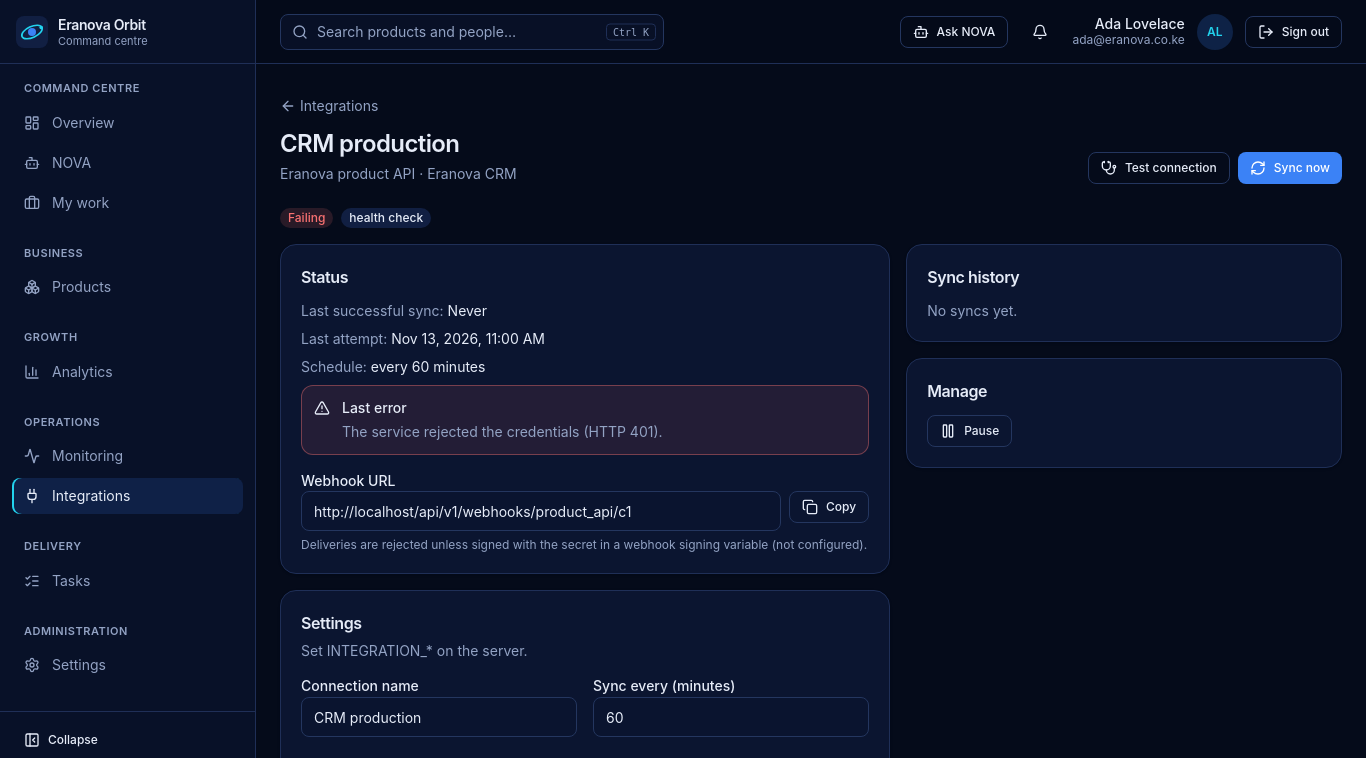
Test case: Integrations › reports a failed connection test
The width and height of the screenshot is (1366, 758).
Step 1. Click the button "Test connection" → (1159, 168), box [1088,152,1230,184]
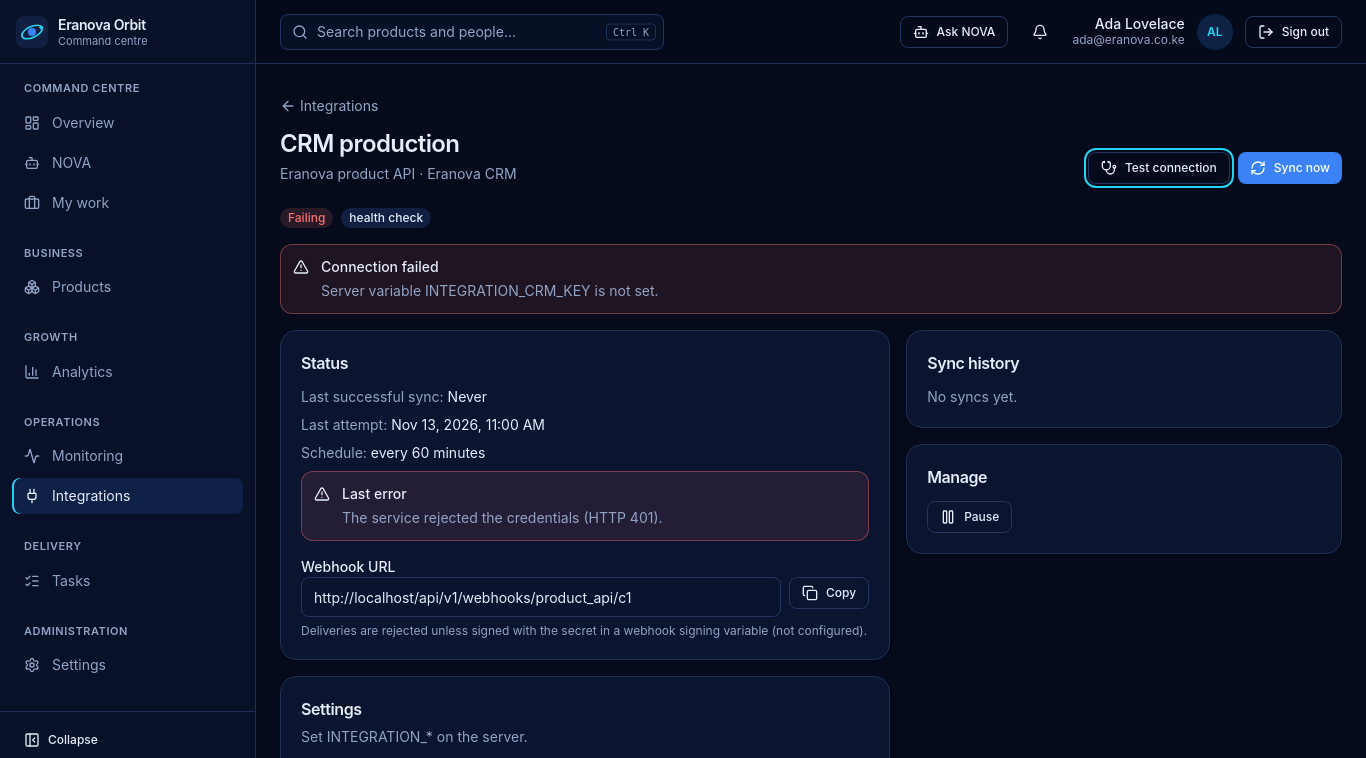
Now the text "Connection failed" is shown, box [321,258,439,275]
Now the text "Server variable INTEGRATION_CRM_KEY is not set." is shown, box [321,281,659,301]
